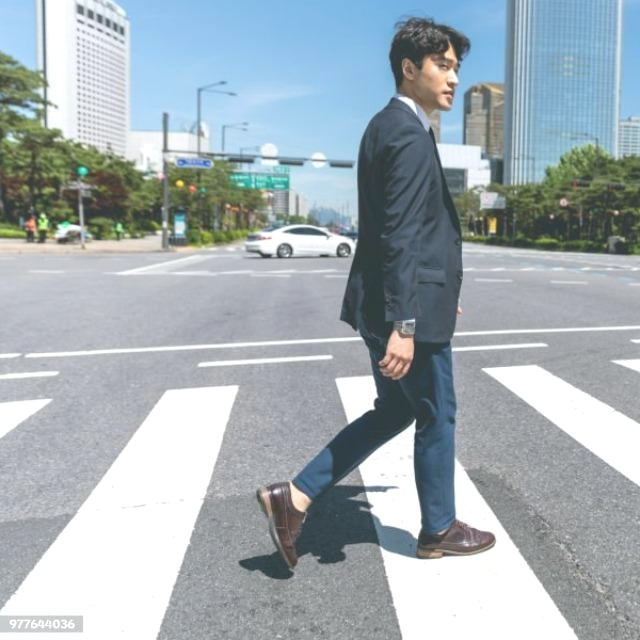Sin_Casco_Mascarrilla: (389, 16, 471, 113)
Sin_Chaleco: (355, 103, 465, 329)
